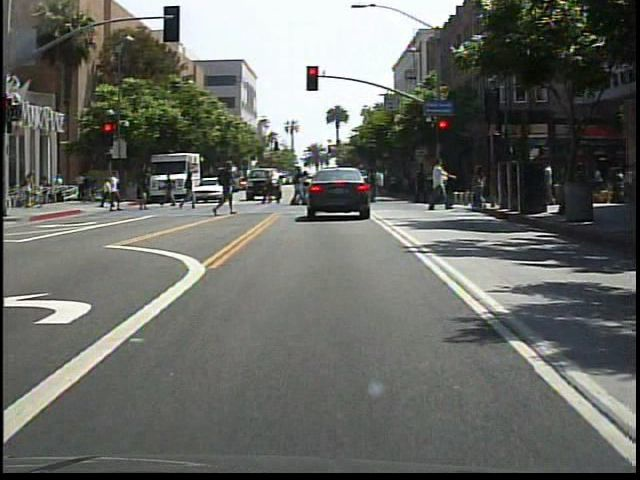person: (426, 157, 458, 214), (211, 160, 239, 217), (340, 166, 362, 217), (106, 170, 127, 217), (180, 170, 202, 212), (161, 170, 178, 211), (258, 170, 275, 207)
